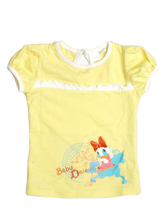clothoes: (8, 38, 160, 201)
